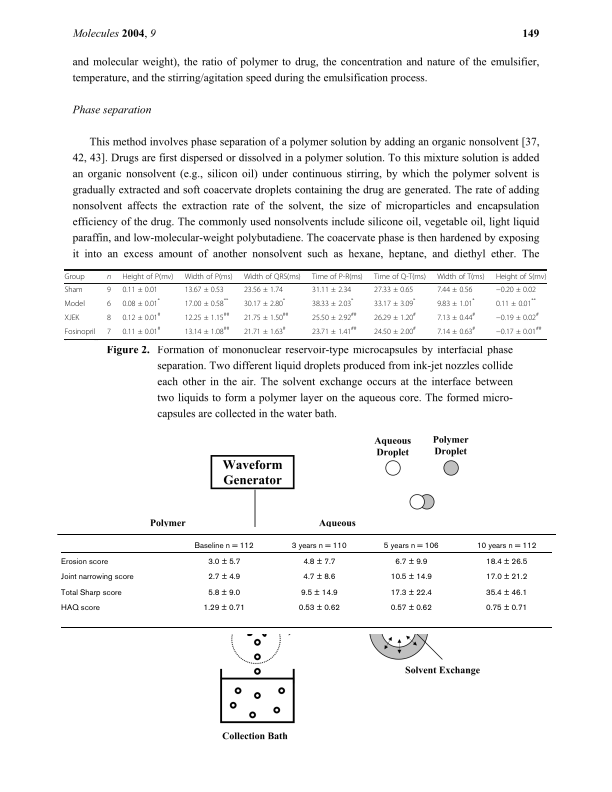borderless: (56, 532, 552, 627), (64, 268, 547, 339)
cell: (59, 573, 134, 583), (59, 588, 122, 598), (475, 541, 537, 551), (193, 541, 254, 551), (290, 541, 347, 551), (382, 541, 439, 551), (243, 272, 302, 281), (495, 325, 542, 336), (184, 311, 230, 322), (243, 311, 289, 322), (311, 311, 357, 322), (184, 325, 230, 336), (311, 325, 357, 336), (184, 297, 229, 308), (495, 311, 540, 322), (59, 557, 108, 567), (373, 272, 427, 281), (373, 311, 417, 322), (243, 325, 287, 336), (373, 325, 417, 336), (121, 272, 174, 281), (311, 272, 364, 281), (243, 297, 286, 308), (311, 297, 354, 308), (373, 297, 416, 308), (495, 272, 547, 281), (495, 297, 537, 308), (436, 272, 486, 281), (184, 272, 233, 281), (484, 557, 528, 567), (484, 573, 528, 583), (484, 588, 528, 598), (484, 604, 528, 614), (121, 297, 161, 308), (436, 297, 476, 308), (121, 311, 161, 322), (436, 311, 476, 322), (121, 325, 161, 336), (436, 325, 476, 336), (389, 573, 432, 583), (389, 588, 432, 598), (202, 604, 245, 614), (297, 604, 340, 614), (389, 604, 432, 614), (59, 604, 100, 614), (299, 588, 338, 598), (495, 285, 537, 294), (184, 285, 225, 294), (243, 285, 284, 294), (311, 285, 352, 294), (373, 285, 414, 294), (121, 285, 159, 294), (207, 557, 241, 567), (302, 557, 336, 567), (394, 557, 428, 567), (207, 573, 241, 583), (302, 573, 336, 583), (207, 588, 241, 598), (436, 285, 473, 294), (64, 327, 96, 336), (64, 299, 86, 308), (64, 272, 85, 281), (64, 285, 83, 294), (64, 313, 80, 322), (106, 285, 112, 294), (106, 299, 112, 308), (106, 313, 112, 322), (106, 327, 112, 336), (106, 274, 112, 280)
